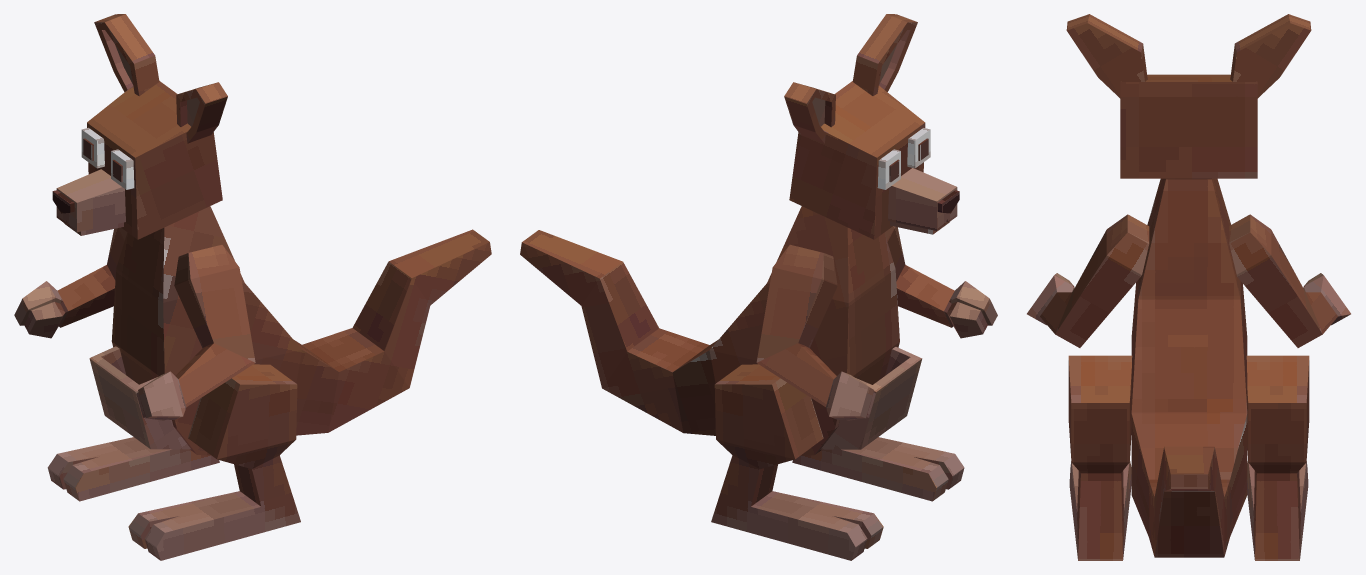
Rendered from animal_kangaroo.obj.
The picture shows the model from 3 angles, left to right: view 1: azimuth 30°, elevation 25°; view 2: azimuth 150°, elevation 25°; view 3: azimuth 270°, elevation 25°; orthographic projection. The views are drawn at different scales.
Parts seen in each view (by area): view 1: animal_kangaroo; view 2: animal_kangaroo; view 3: animal_kangaroo.
Boxes of the visible parts, left/top/right/bottom form: animal_kangaroo: left=14, top=14, right=491, bottom=560; animal_kangaroo: left=520, top=14, right=997, bottom=560; animal_kangaroo: left=1027, top=14, right=1350, bottom=560.
Size of the model in its own units: 5.55 by 5.74 by 3.4.
Materials: 1 (1 with a texture image).
